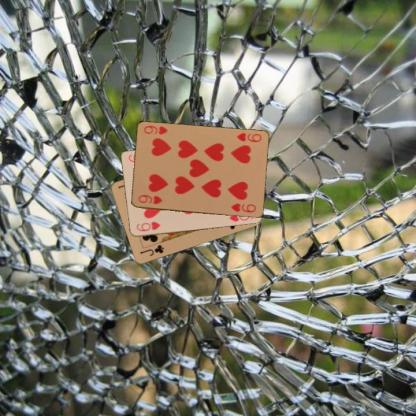6h: (134, 219, 161, 233)
9h: (134, 192, 164, 206), (234, 130, 262, 143)
Jc: (138, 242, 165, 257)
